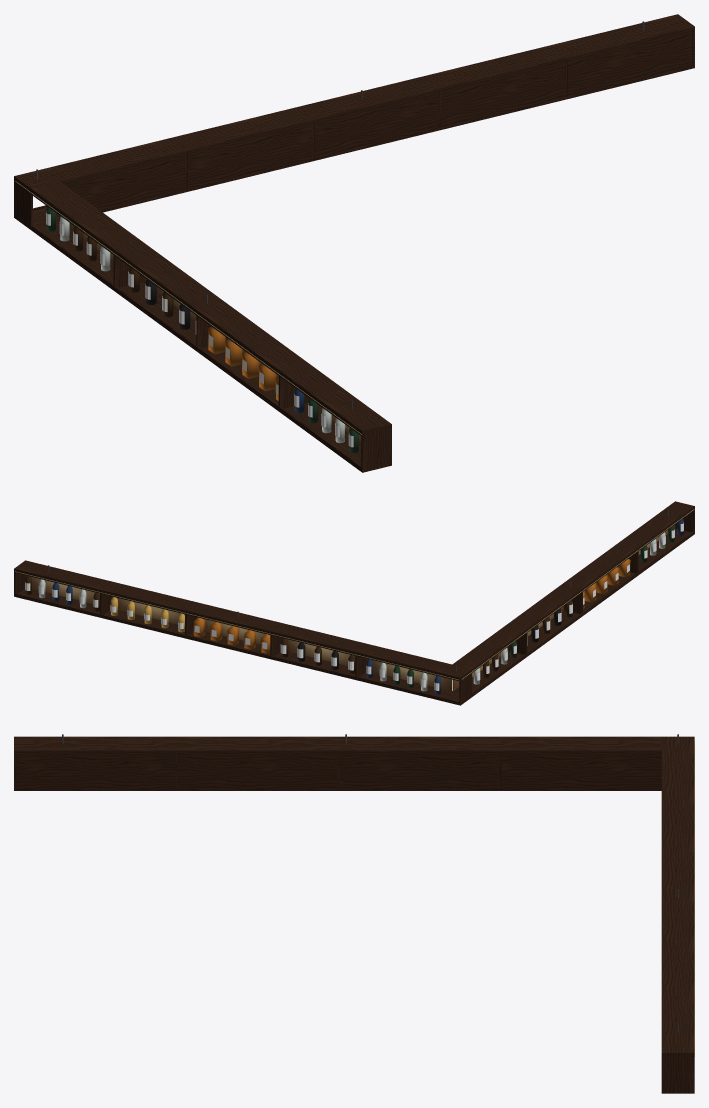
File: liquorshelf.glb
3 views of the same model, one above another, from view 1: azimuth 30°, elevation 25°; view 2: azimuth 150°, elevation 25°; view 3: azimuth 270°, elevation 25° (orthographic). The views are drawn at different scales.
Parts seen in each view (by area): view 1: LiquorCabinet, LiquorBottles, LiquorLabels; view 2: LiquorCabinet, LiquorBottles, LiquorLabels; view 3: LiquorCabinet.
Part boxes in pixels (box(x1,y1,x2,y2)): LiquorCabinet: box(14, 14, 694, 472); LiquorBottles: box(46, 206, 358, 452); LiquorLabels: box(46, 212, 353, 447); LiquorCabinet: box(14, 501, 694, 705); LiquorBottles: box(25, 519, 683, 694); LiquorLabels: box(25, 522, 683, 690); LiquorCabinet: box(14, 734, 694, 1093).
Bounding box in the file's own units: 3.85 × 0.28 × 3.5.
Materials: 7 (2 with a texture image).
